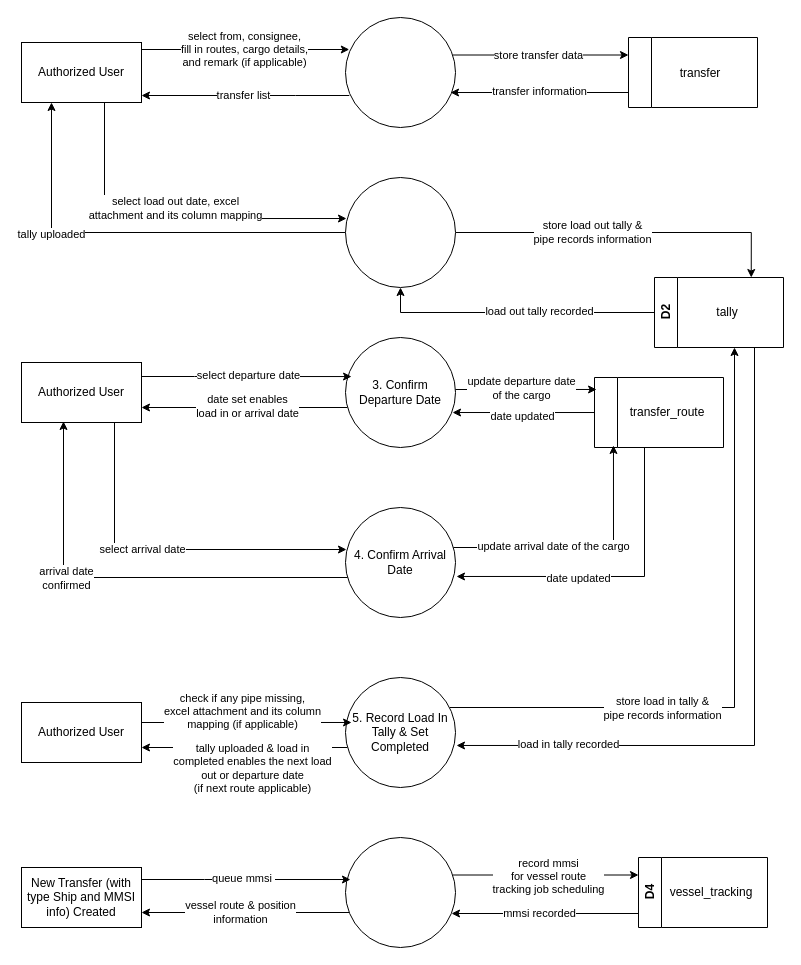
The diagram is 801 pixels wide and 965 high, and some of its shapes have lost their labels. Each missing label, with the box of its shape:
1. Create Transfer: (344, 16, 456, 128)
2. Record Load Out Tally & Set Completed: (344, 176, 456, 288)
D1: (628, 36, 758, 108)
D3: (594, 376, 724, 448)
Vessel Tracking: (344, 836, 456, 948)
